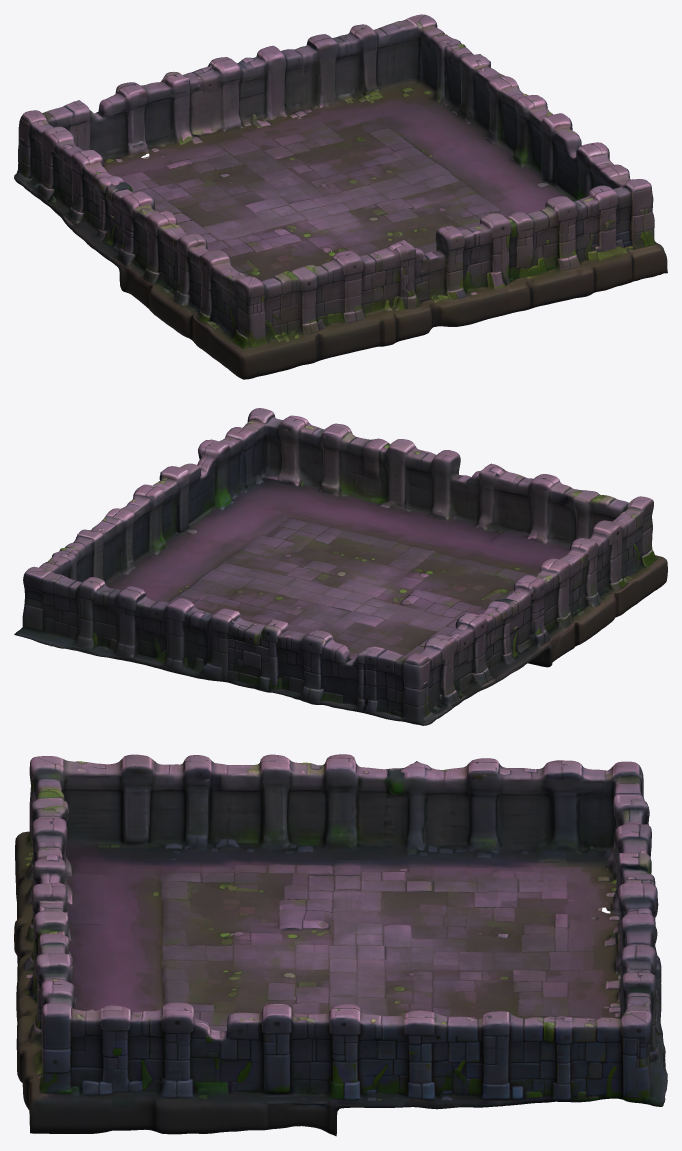
Rendered from dungeon_room.glb.
3 renders of one model, top to bottom at view 1: azimuth 30°, elevation 25°; view 2: azimuth 150°, elevation 25°; view 3: azimuth 270°, elevation 25°, orthographic. The views are drawn at different scales.
Parts seen in each view (by area): view 1: tripo_node_0dadc403; view 2: tripo_node_0dadc403; view 3: tripo_node_0dadc403.
Part boxes in pixels (bbox=[...]): tripo_node_0dadc403: bbox=[14, 14, 667, 379]; tripo_node_0dadc403: bbox=[14, 408, 667, 725]; tripo_node_0dadc403: bbox=[14, 754, 667, 1136].
Bounding box in the file's own units: 97.57 × 19.15 × 97.44.
Materials: 1 (1 with a texture image).
